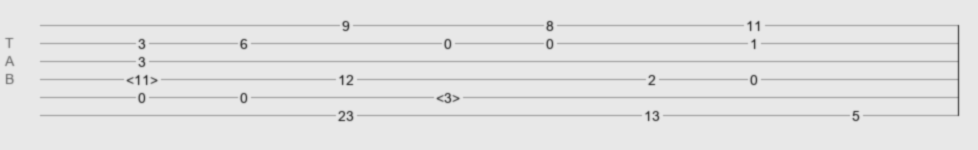0: (138, 90, 146, 100), (240, 90, 248, 100), (444, 36, 452, 46), (546, 36, 554, 46), (750, 72, 758, 82)
1: (750, 36, 758, 46)
11: (746, 18, 762, 28)
12: (338, 72, 354, 82)
13: (644, 108, 660, 118)
2: (648, 72, 656, 82)
23: (338, 108, 354, 118)
3: (138, 36, 146, 46), (138, 54, 146, 64)
5: (852, 108, 860, 118)
6: (240, 36, 248, 46)
8: (546, 18, 554, 28)
9: (342, 18, 350, 28)
harmonic: (126, 72, 158, 82), (436, 90, 460, 100)
